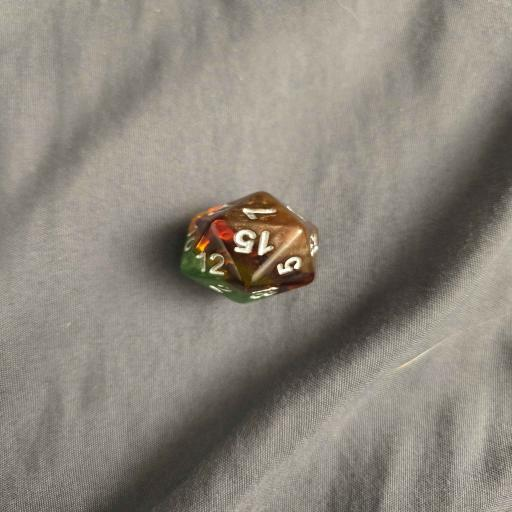twenty sided dice: (181, 191, 318, 304)
